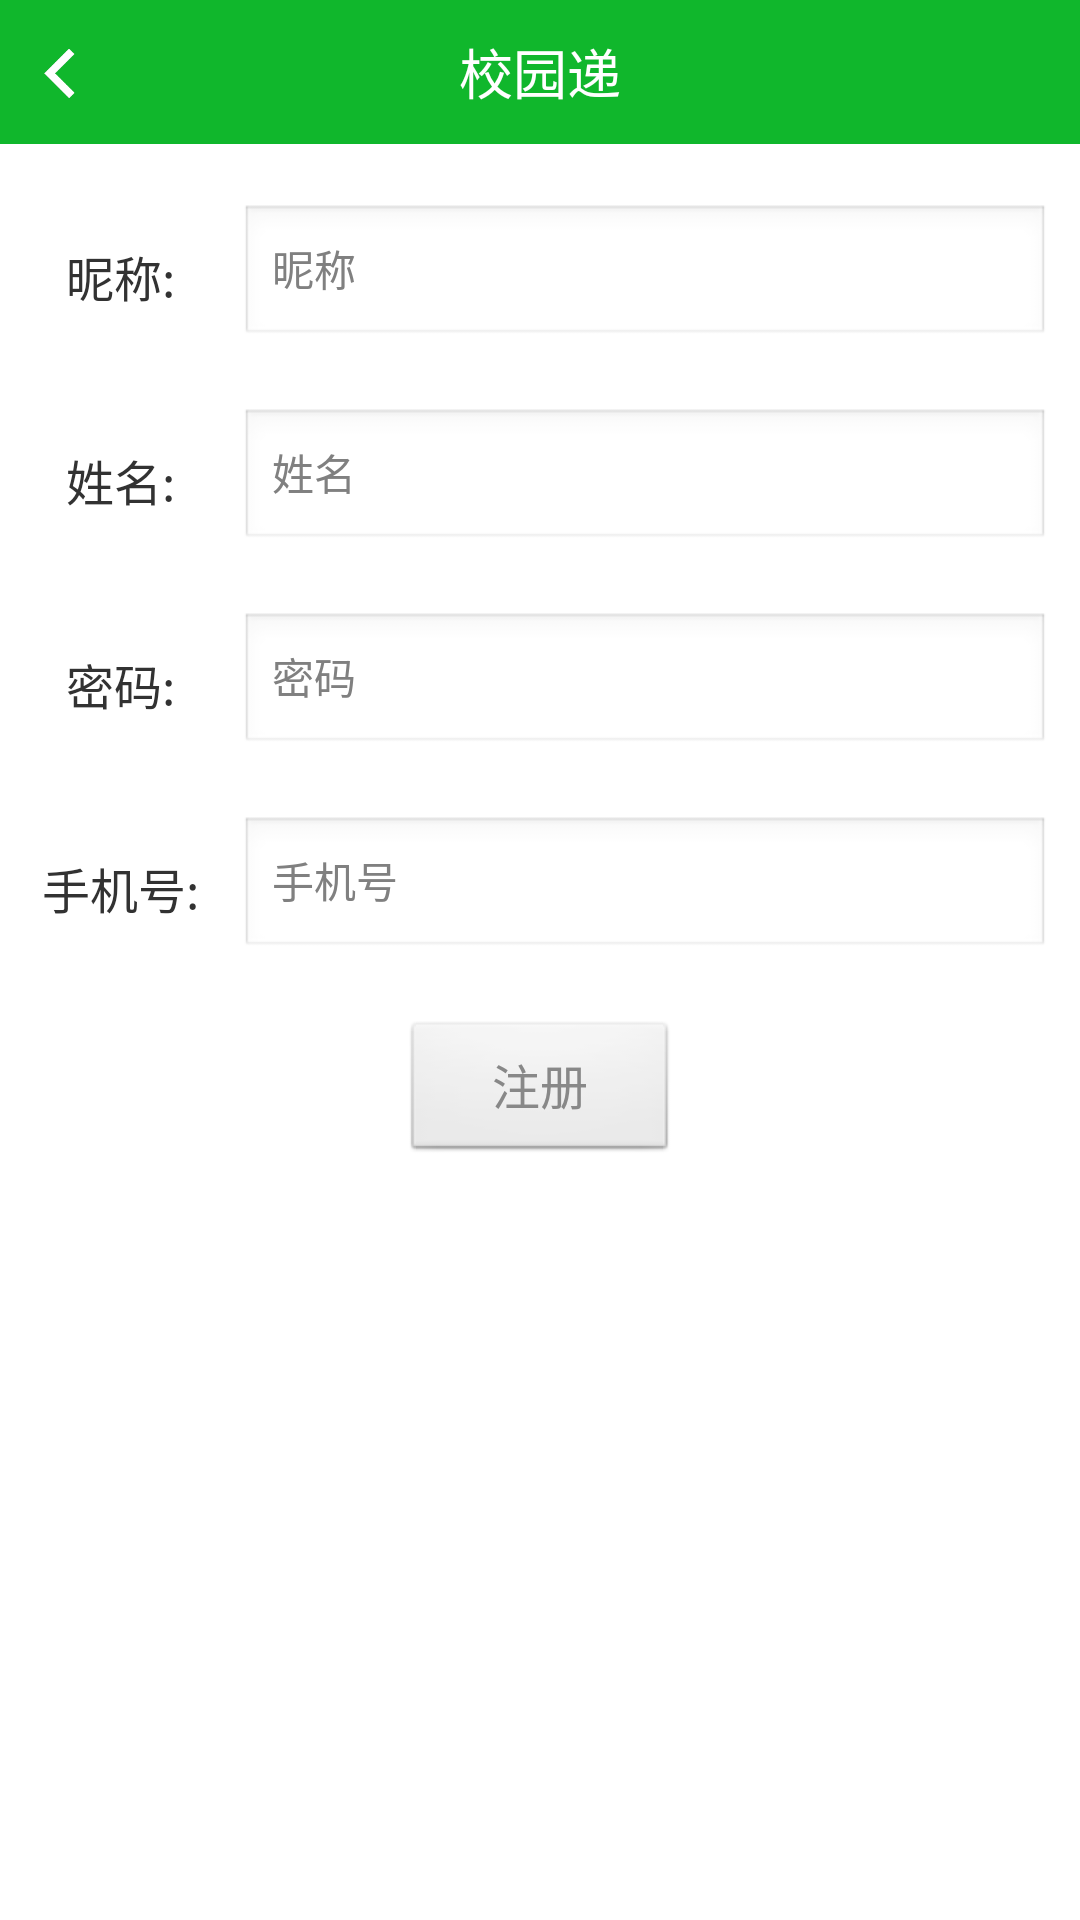

Screen size 1080 × 1920. Icon name, then its center in pixels as (x,y):
back: (59,73)
